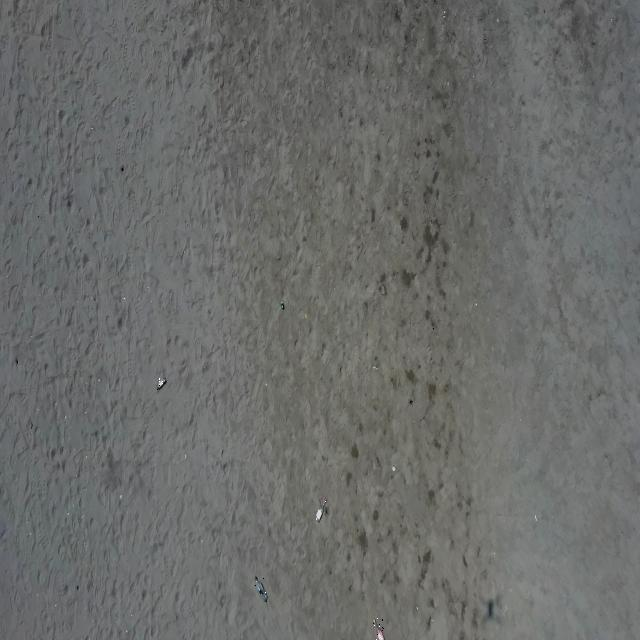glass: (254, 576, 267, 602), (315, 498, 326, 522), (373, 618, 384, 640), (156, 377, 167, 390)
